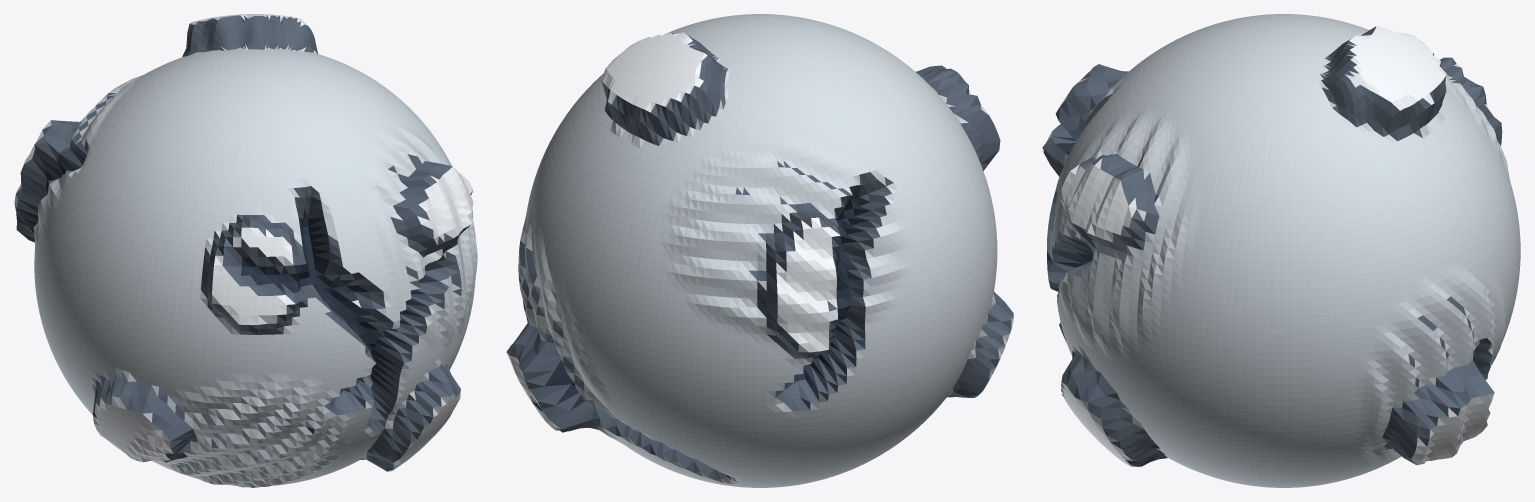
The model's file is vespera.obj.
3 renders of one model, left to right at view 1: azimuth 30°, elevation 25°; view 2: azimuth 150°, elevation 25°; view 3: azimuth 270°, elevation 25°, orthographic. The views are drawn at different scales.
Parts seen in each view (by area): view 1: Vespera; view 2: Vespera; view 3: Vespera.
Part boxes in pixels (left/top/right/bottom): Vespera: left=14, top=14, right=477, bottom=487; Vespera: left=506, top=14, right=1013, bottom=487; Vespera: left=1042, top=14, right=1520, bottom=487.
Size of the model in its own units: 2 by 2.08 by 2.02.
